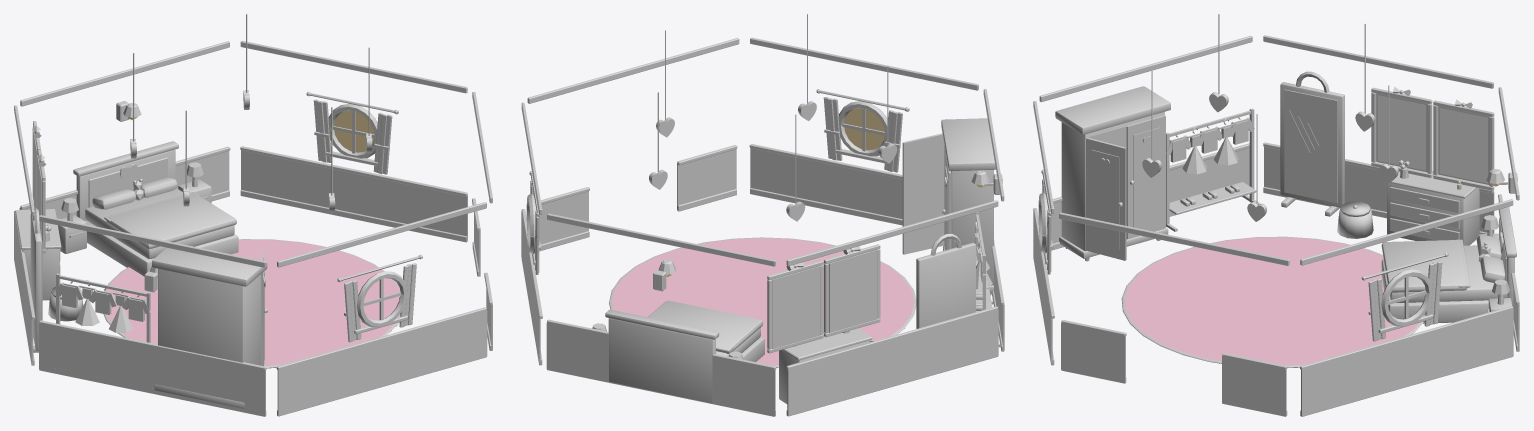
File: zon_room_wardrobe.glb
3 views of the same model, side by side, from view 1: azimuth 30°, elevation 25°; view 2: azimuth 150°, elevation 25°; view 3: azimuth 270°, elevation 25° (orthographic).
Parts seen in each view (by area): view 1: SM_zon_room_wardrobe_kit_interior_xm1_zm1, SM_zon_room_wardrobe_room_rug_xm1_zm1, SM_zon_room_wardrobe_glow_vc_xm1_zm1; view 2: SM_zon_room_wardrobe_kit_interior_xm1_zm1, SM_zon_room_wardrobe_room_rug_xm1_zm1, SM_zon_room_wardrobe_glow_vc_xm1_zm1; view 3: SM_zon_room_wardrobe_kit_interior_xm1_zm1, SM_zon_room_wardrobe_room_rug_xm1_zm1, SCREEN_fur_dresser_wardrobe_them__0, SCREEN_fur_dresser_wardrobe_you__0.
Boxes of the visible parts, left/top/right/bottom form: SM_zon_room_wardrobe_kit_interior_xm1_zm1: left=14, top=14, right=492, bottom=416; SM_zon_room_wardrobe_room_rug_xm1_zm1: left=106, top=239, right=400, bottom=365; SM_zon_room_wardrobe_glow_vc_xm1_zm1: left=128, top=110, right=374, bottom=277; SM_zon_room_wardrobe_kit_interior_xm1_zm1: left=521, top=14, right=1004, bottom=416; SM_zon_room_wardrobe_room_rug_xm1_zm1: left=611, top=238, right=914, bottom=365; SM_zon_room_wardrobe_glow_vc_xm1_zm1: left=666, top=108, right=984, bottom=276; SM_zon_room_wardrobe_kit_interior_xm1_zm1: left=1033, top=14, right=1519, bottom=416; SM_zon_room_wardrobe_room_rug_xm1_zm1: left=1124, top=237, right=1419, bottom=365; SCREEN_fur_dresser_wardrobe_them__0: left=1439, top=108, right=1487, bottom=183; SCREEN_fur_dresser_wardrobe_you__0: left=1377, top=95, right=1425, bottom=170.
Size of the model in its own units: 9.92 by 5.01 by 9.04.
